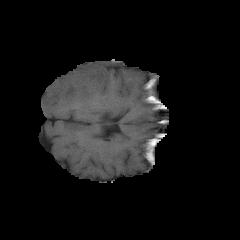glioma: (43, 66, 108, 110)
